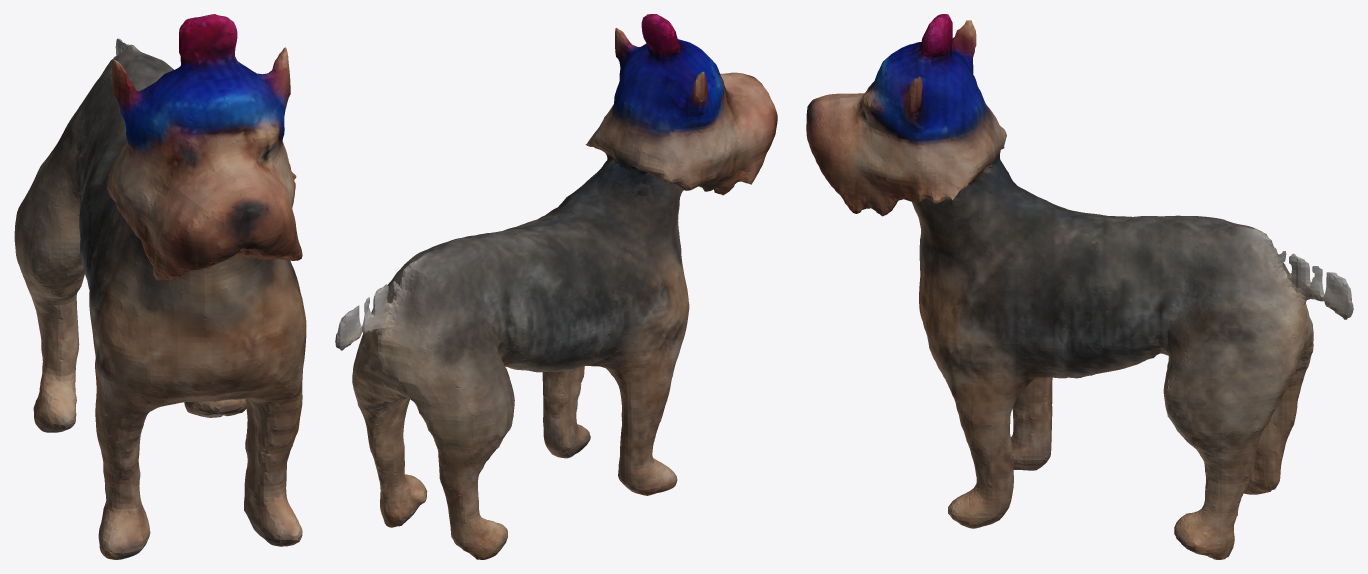
The model's file is ours-conv.glb.
3 views of the same model, side by side, from view 1: azimuth 30°, elevation 25°; view 2: azimuth 150°, elevation 25°; view 3: azimuth 270°, elevation 25° (orthographic). The views are drawn at different scales.
Parts seen in each view (by area): view 1: ours.obj; view 2: ours.obj; view 3: ours.obj.
Boxes of the visible parts, x1,y1,x2,y2 form: ours.obj: (14, 14, 306, 559); ours.obj: (335, 14, 777, 559); ours.obj: (806, 14, 1353, 559).
Size of the model in its own units: 1.01 by 1.83 by 1.92.
